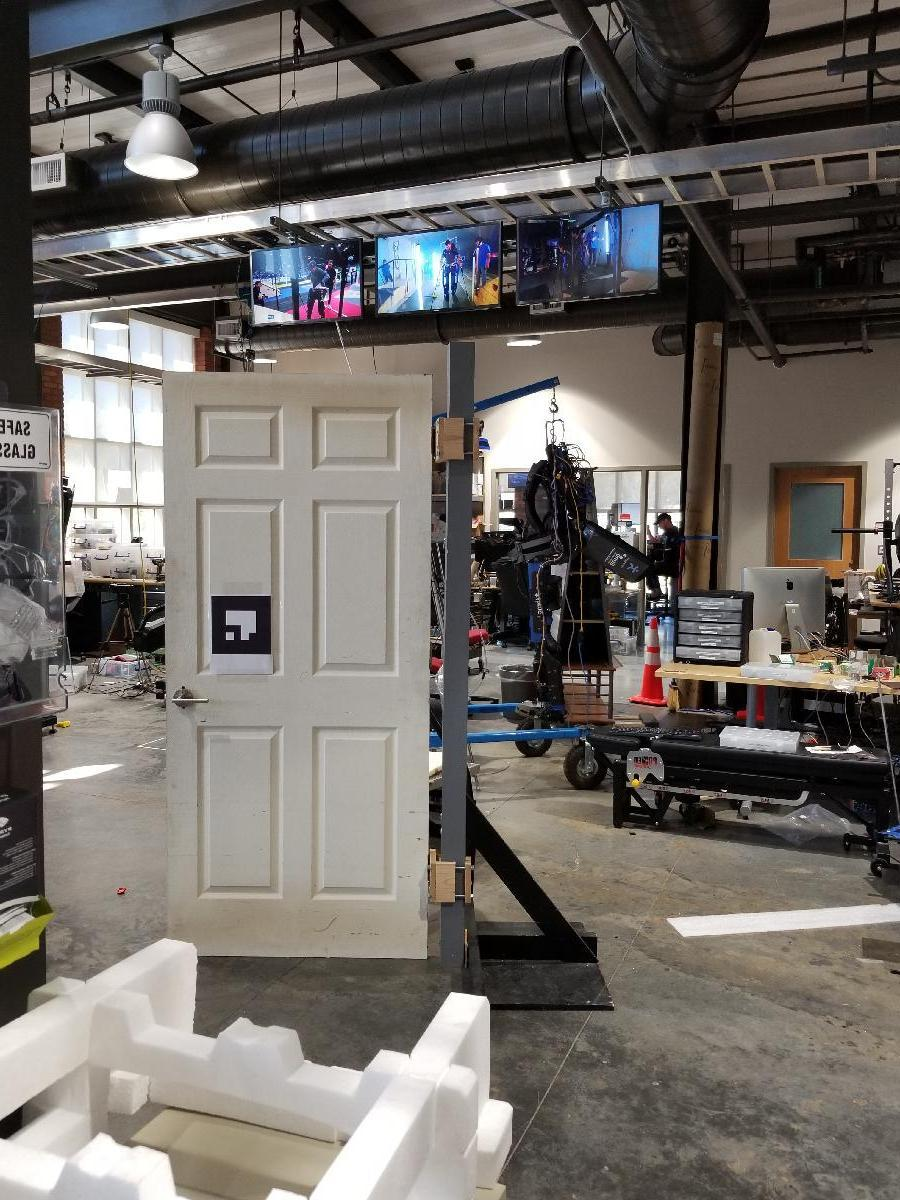door: (169, 371, 429, 966)
handle: (168, 684, 211, 714)
